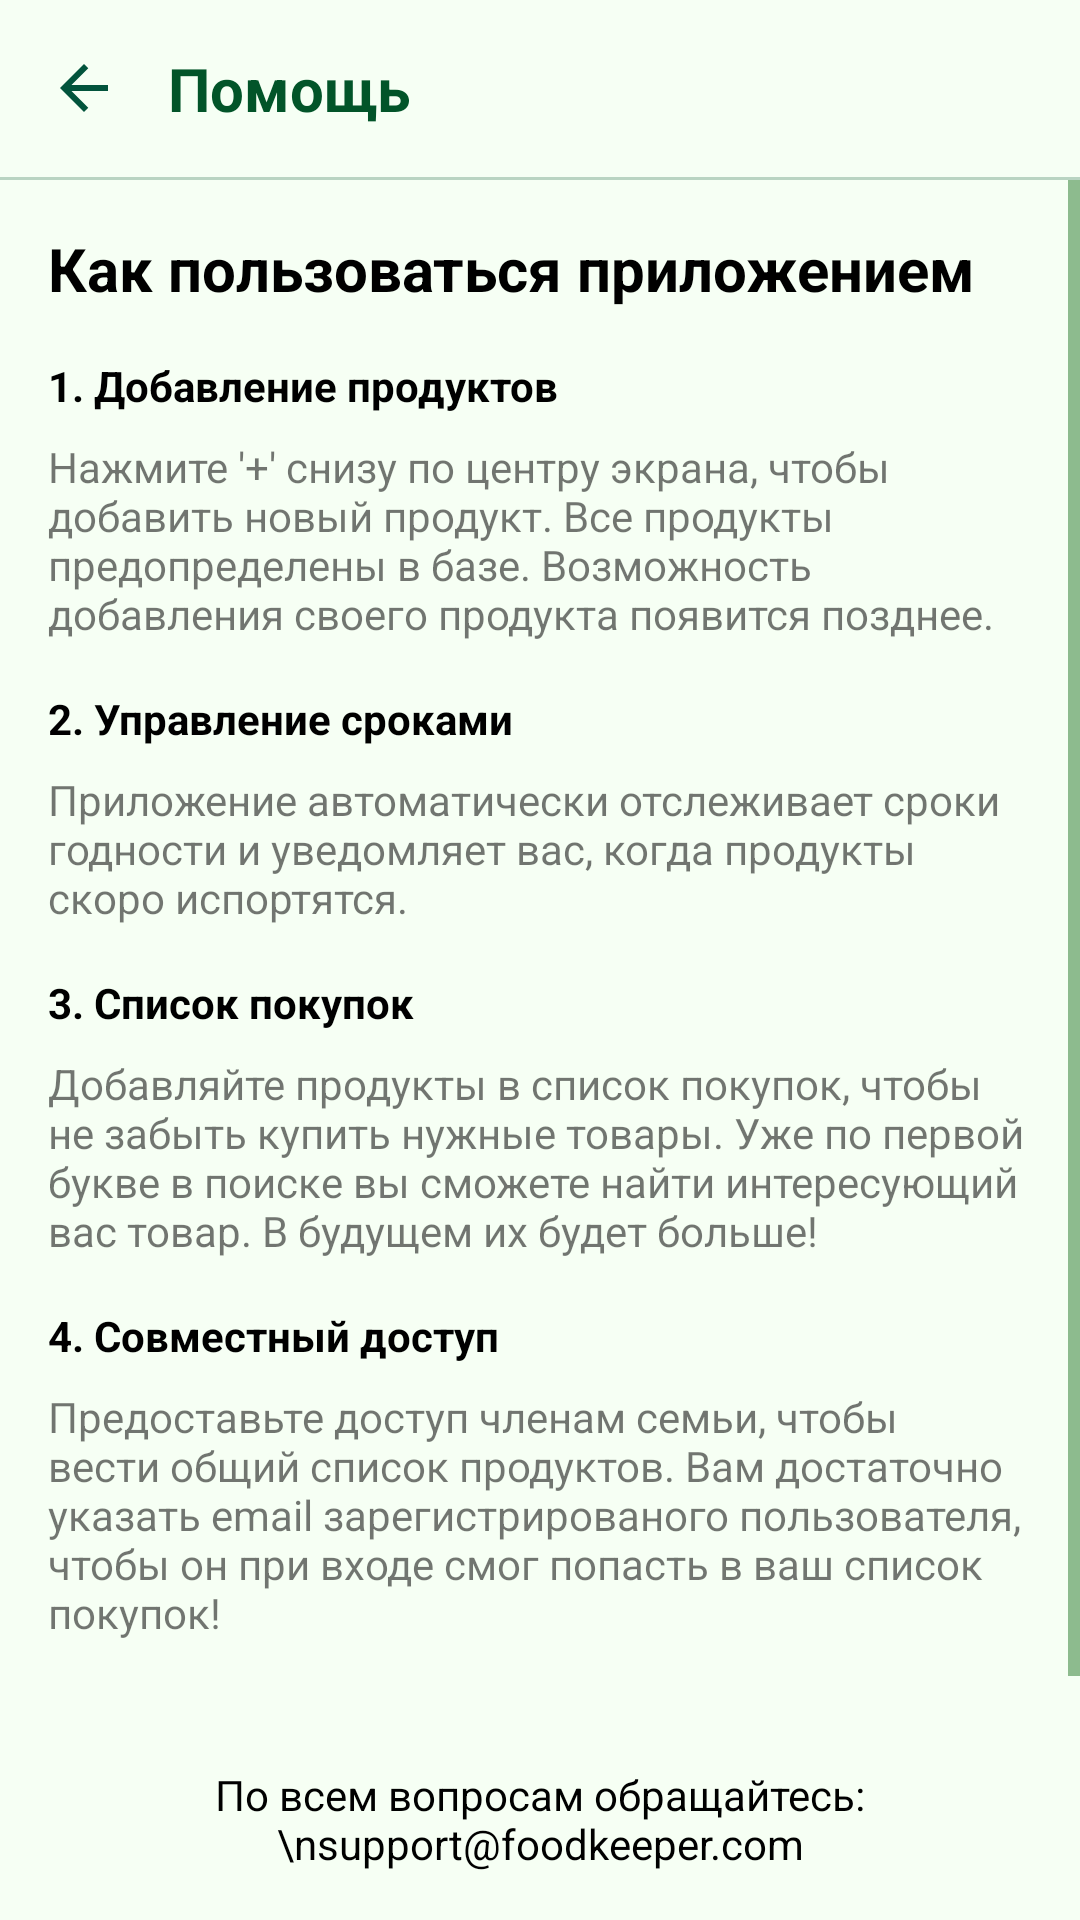

Point at icon controls on the screen. Image size 1080 × 1920, points as (x,y).
back: (84,88)
